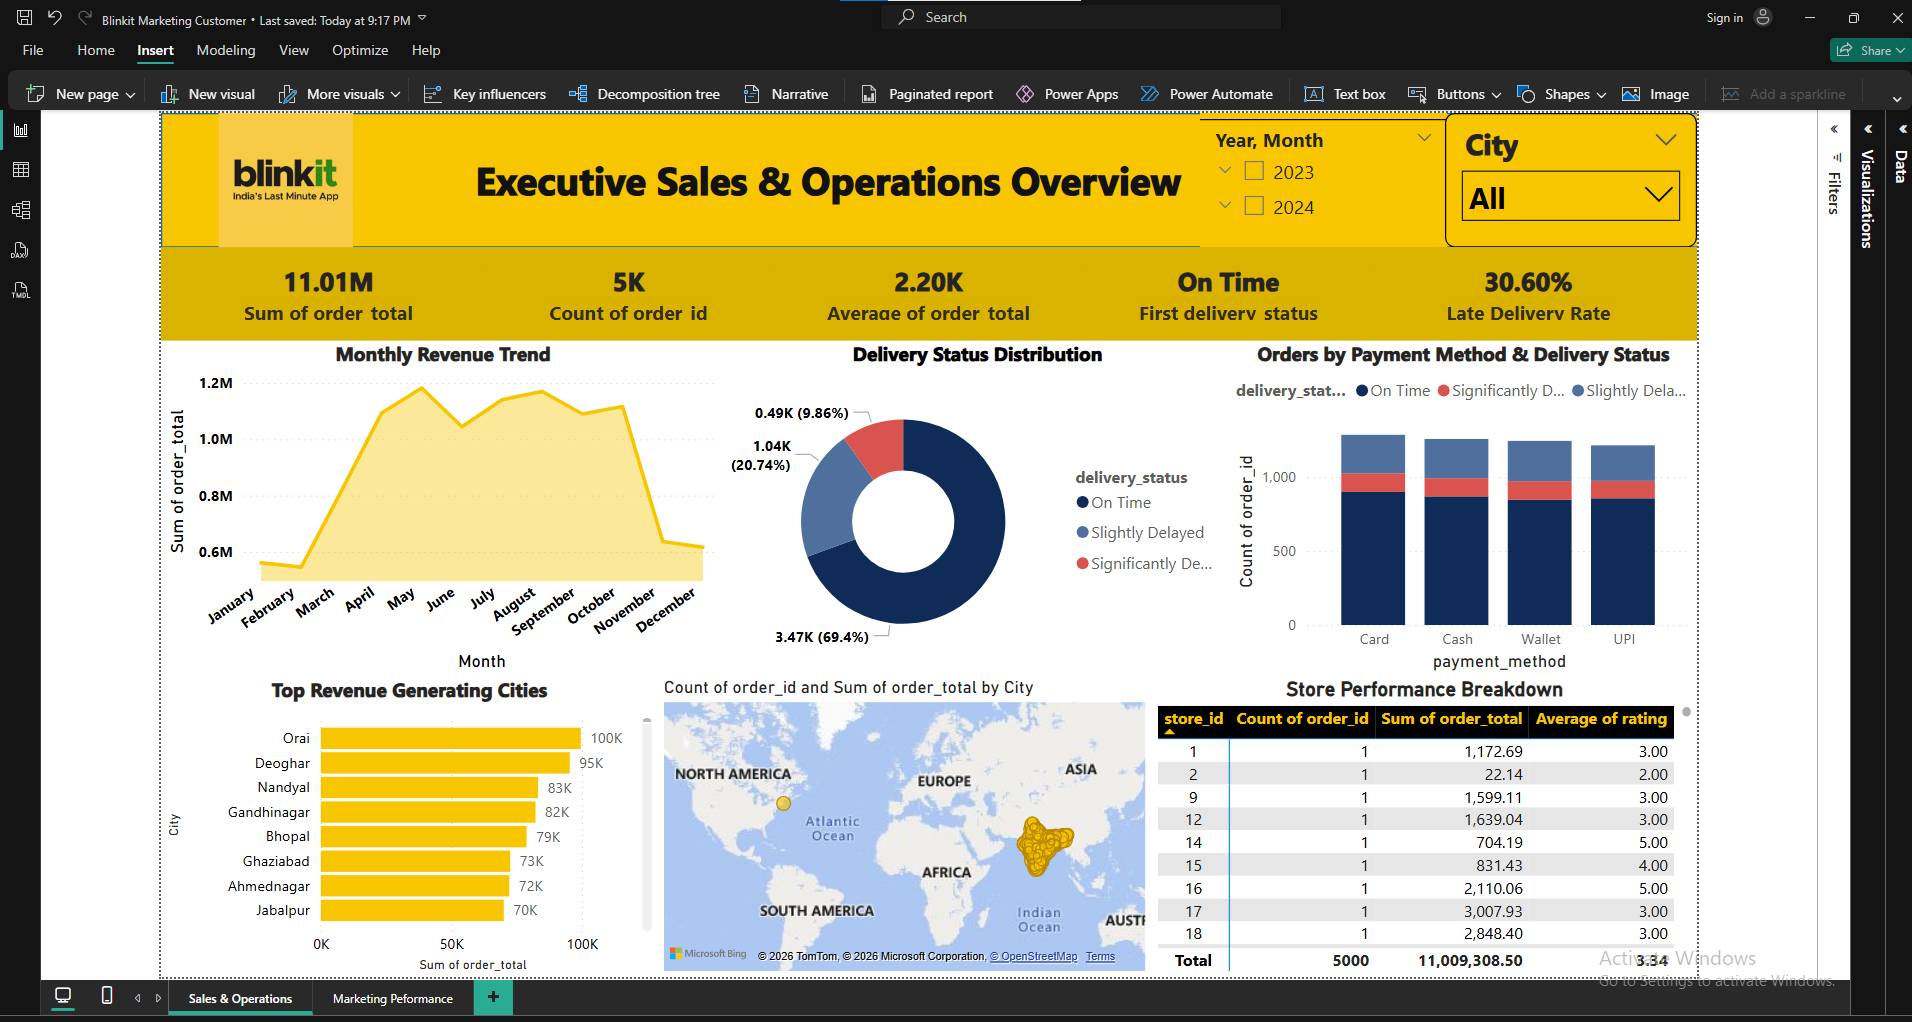

This screenshot's page, from the dashboard's own definition file:
{"tool":"powerbi","page":{"name":"Sales & Operations","canvas":[1280,720],"ordinal":0},"visuals":[{"type":"shape","box":[0,0,1920,112],"z":0},{"type":"textbox","box":[248,28,618,56],"z":1000},{"type":"slicer","fields":{"Values":["blinkit_orders.order_date.Variation.Date Hierarchy.Year","blinkit_orders.order_date.Variation.Date Hierarchy.Month"]},"box":[866,0,206,112],"z":2000},{"type":"slicer","fields":{"Values":["blinkit_customers.City"]},"box":[1070,0,210,112],"z":3000},{"type":"cardVisual","fields":{"Data":["Sum(blinkit_orders.order_total)","CountNonNull(blinkit_orders.order_id)","Avg(blinkit_orders.order_total)","Min(blinkit_orders.delivery_status)","blinkit_customers.Cancellation Rate"]},"box":[0,112,1280,78],"z":4000},{"type":"areaChart","title":"Monthly Revenue Trend","fields":{"Y":["Sum(blinkit_orders.order_total)"],"Category":["blinkit_orders.order_date.Variation.Date Hierarchy.Month"]},"box":[0,190,470,280],"z":5000},{"type":"donutChart","title":"Delivery Status Distribution","fields":{"Category":["blinkit_orders.delivery_status"],"Y":["CountNonNull(blinkit_orders.order_id)"]},"box":[470,190,421,280],"z":6000},{"type":"clusteredBarChart","title":"Top Revenue Generating Cities","fields":{"Category":["blinkit_customers.City"],"Y":["Sum(blinkit_orders.order_total)"]},"box":[0,470,414,250],"z":7000},{"type":"pivotTable","title":"Store Performance Breakdown","fields":{"Rows":["blinkit_orders.store_id"],"Values":["CountNonNull(blinkit_orders.order_id)","Sum(blinkit_orders.order_total)","Avg(blinkit_customer_feedback.rating)"]},"box":[825.5,470,454.5,250],"z":8000},{"type":"map","fields":{"Category":["blinkit_customers.City"],"Size":["CountNonNull(blinkit_orders.order_id)"]},"box":[414,470,411,250],"z":9000},{"type":"columnChart","title":"Orders by Payment Method & Delivery Status","fields":{"Y":["CountNonNull(blinkit_orders.order_id)"],"Series":["blinkit_orders.delivery_status"],"Category":["blinkit_orders.payment_method"]},"box":[890.9,190,389.1,280],"z":10000},{"type":"image","box":[0,0,207,112],"z":10001}]}

Visuals, with their boxes on the page's 1280x720 design canvas (x1, y1, x2, y2). These are canvas units, not pixel positions in the 1912x1022 screenshot, which may show the page scaled, cropped or inside an application window:
shape: region(0, 0, 1920, 112)
textbox: region(248, 28, 866, 84)
slicer - blinkit_orders.order_date.Variation.Date Hierarchy.Year x blinkit_orders.order_date.Variation.Date Hierarchy.Month: region(866, 0, 1072, 112)
slicer - blinkit_customers.City: region(1070, 0, 1280, 112)
cardVisual - Sum(blinkit_orders.order_total) x CountNonNull(blinkit_orders.order_id): region(0, 112, 1280, 190)
"Monthly Revenue Trend" areaChart: region(0, 190, 470, 470)
"Delivery Status Distribution" donutChart: region(470, 190, 891, 470)
"Top Revenue Generating Cities" clusteredBarChart: region(0, 470, 414, 720)
"Store Performance Breakdown" pivotTable: region(826, 470, 1280, 720)
map - blinkit_customers.City x CountNonNull(blinkit_orders.order_id): region(414, 470, 825, 720)
"Orders by Payment Method & Delivery Status" columnChart: region(891, 190, 1280, 470)
image: region(0, 0, 207, 112)
